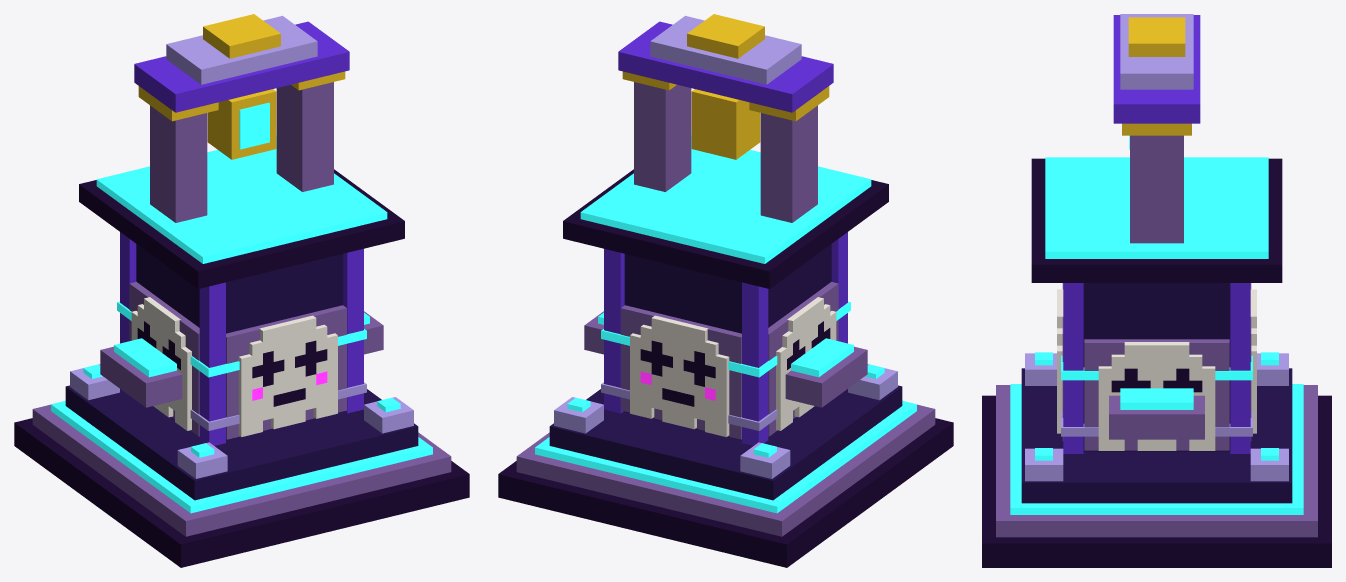
The model's file is landmark-tier-2.glb.
3 renders of one model, left to right at view 1: azimuth 30°, elevation 25°; view 2: azimuth 150°, elevation 25°; view 3: azimuth 270°, elevation 25°, orthographic. The views are drawn at different scales.
Parts seen in each view (by area): view 1: base-ink, base-deep, base-teal, base-stone, crown-stone, base-cream, base-purple, crown-purple, crown-gold, crown-lavender, base-lavender, crown-teal; view 2: base-ink, base-deep, base-teal, base-stone, crown-stone, base-cream, base-purple, crown-gold, crown-purple, crown-lavender, base-lavender; view 3: base-teal, base-deep, base-ink, base-stone, base-cream, base-purple, crown-stone, base-lavender, crown-purple, crown-lavender, crown-gold.
Part boxes in pixels (x1,y1,x2,y2): base-ink: [14, 169, 469, 567]; base-deep: [65, 244, 418, 500]; base-teal: [51, 135, 432, 513]; base-stone: [32, 282, 451, 536]; crown-stone: [150, 82, 333, 222]; base-cream: [131, 297, 337, 436]; base-purple: [120, 232, 363, 445]; crown-purple: [134, 21, 349, 112]; crown-gold: [138, 14, 345, 159]; crown-lavender: [166, 15, 317, 84]; base-lavender: [70, 364, 413, 478]; crown-teal: [239, 102, 269, 149]; base-ink: [498, 169, 953, 567]; base-deep: [549, 244, 902, 500]; base-teal: [535, 135, 916, 513]; base-stone: [516, 282, 935, 536]; crown-stone: [634, 82, 817, 222]; base-cream: [630, 297, 836, 436]; base-purple: [604, 232, 847, 445]; crown-gold: [622, 14, 829, 159]; crown-purple: [618, 21, 833, 112]; crown-lavender: [650, 15, 801, 84]; base-lavender: [554, 364, 897, 478]; base-teal: [1010, 157, 1303, 514]; base-deep: [1021, 283, 1292, 503]; base-ink: [982, 158, 1331, 567]; base-stone: [996, 283, 1317, 537]; base-cream: [1057, 289, 1256, 450]; base-purple: [1063, 283, 1250, 453]; crown-stone: [1130, 135, 1183, 243]; base-lavender: [1025, 353, 1288, 481]; crown-purple: [1113, 15, 1200, 123]; crown-lavender: [1120, 14, 1193, 89]; crown-gold: [1122, 17, 1191, 135].
Bounding box in the file's own units: 3.1 × 4.53 × 3.1.
